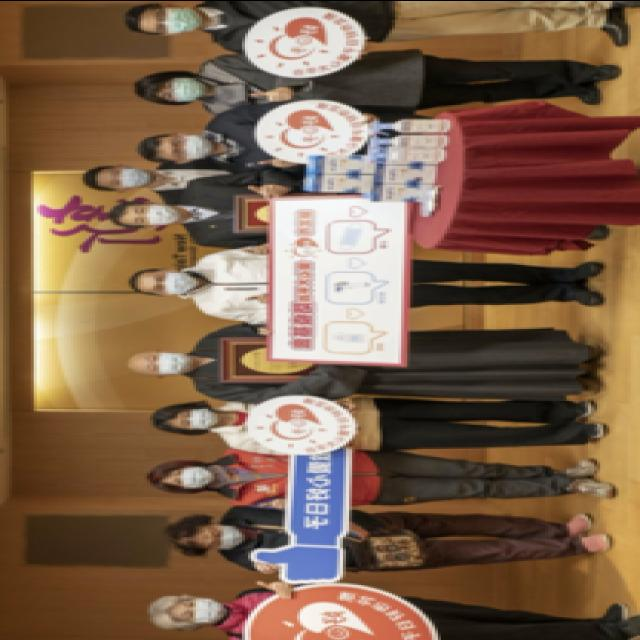mask: (174, 595, 227, 624), (150, 4, 199, 30), (147, 269, 199, 293), (128, 202, 180, 224), (202, 522, 245, 548), (166, 134, 212, 158), (104, 166, 153, 188), (141, 350, 190, 372), (159, 77, 205, 99), (168, 464, 214, 486), (175, 407, 218, 428)
